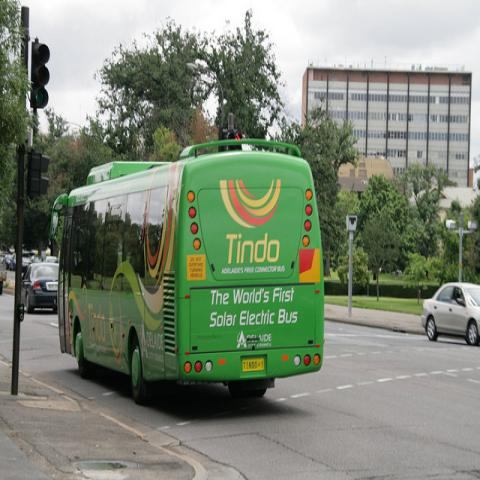bus: (52, 137, 324, 408)
car: (420, 282, 480, 346), (22, 262, 59, 314), (20, 250, 36, 268)
